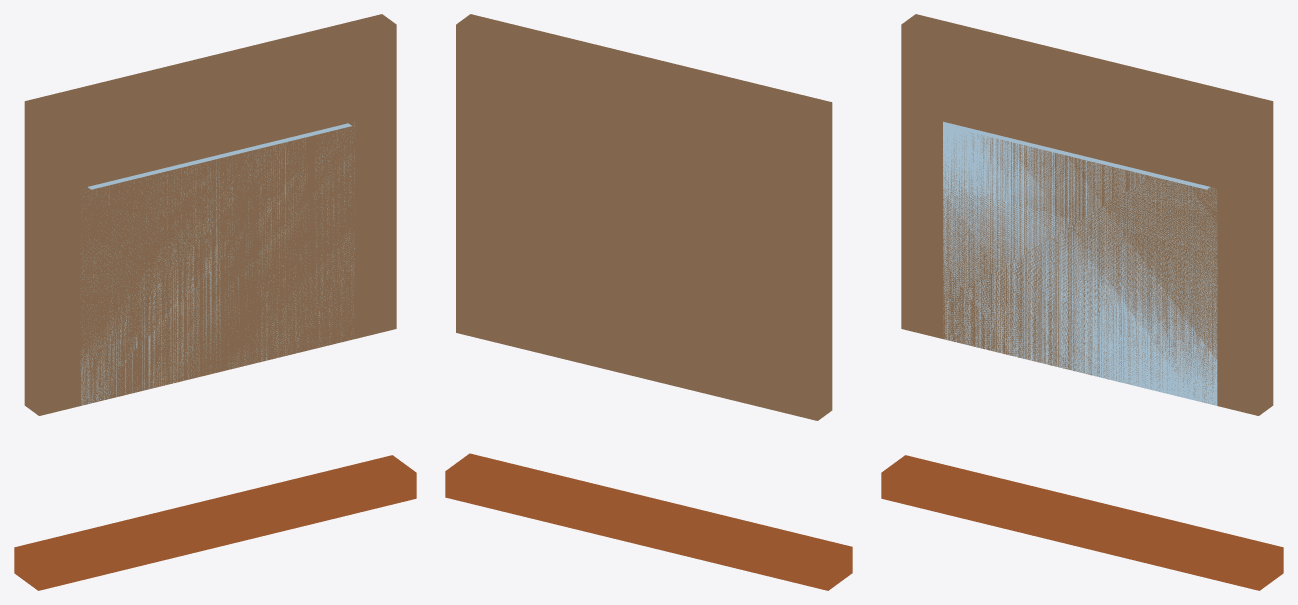
Rendered from garage-window-frame.obj.
3 renders of one model, left to right at view 1: azimuth 30°, elevation 25°; view 2: azimuth 150°, elevation 25°; view 3: azimuth 330°, elevation 25°, orthographic.
Visible parts, largest first — view 1: garage-window-frame; view 2: garage-window-frame; view 3: garage-window-frame.
Part boxes in pixels (box(x1,y1,x2,y2)): garage-window-frame: box(14, 14, 416, 590); garage-window-frame: box(445, 14, 852, 590); garage-window-frame: box(881, 14, 1283, 590).
Bounding box in the file's own units: 0.91 × 1.08 × 0.1.
